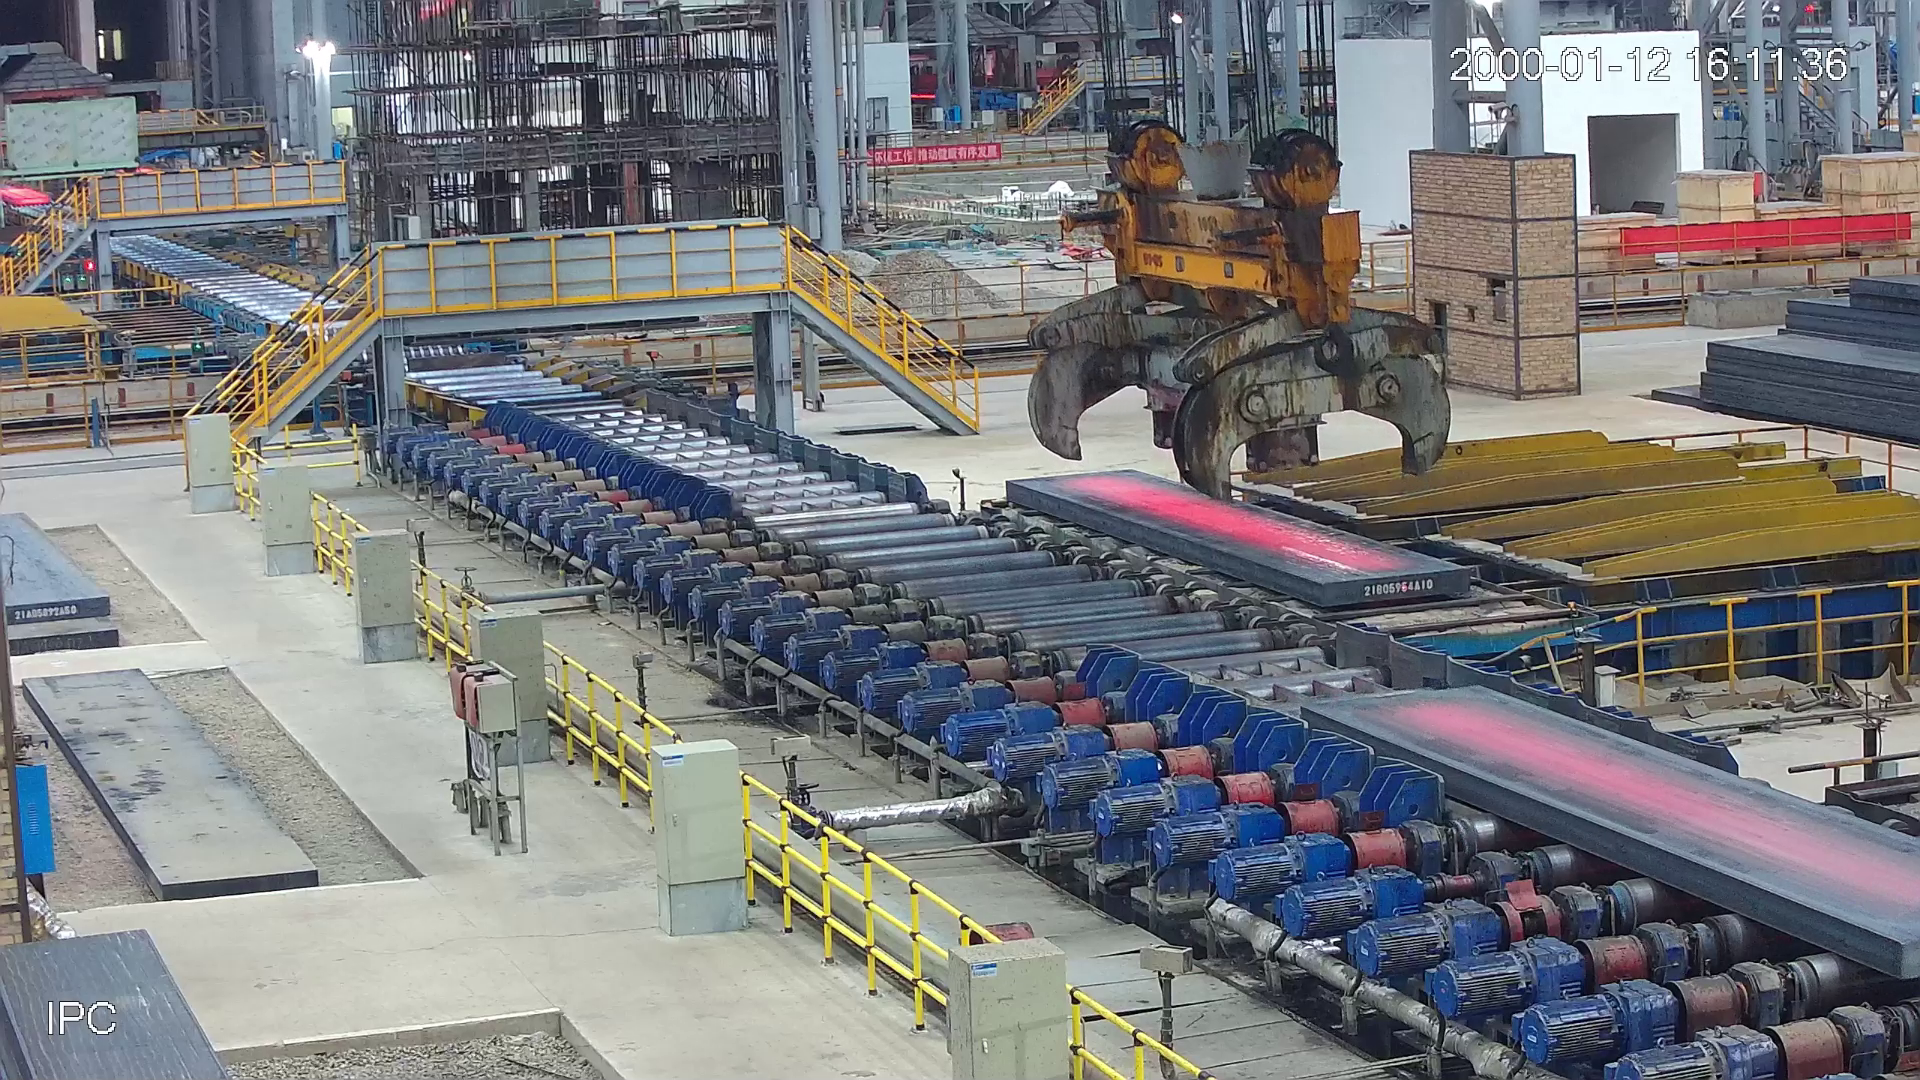crane: (1034, 123, 1447, 500)
slab: (1302, 687, 1917, 969), (1007, 472, 1466, 604)
